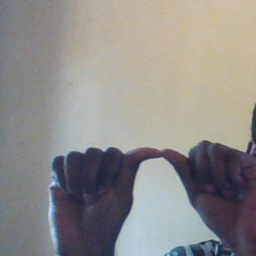A: (51, 138, 256, 237)
